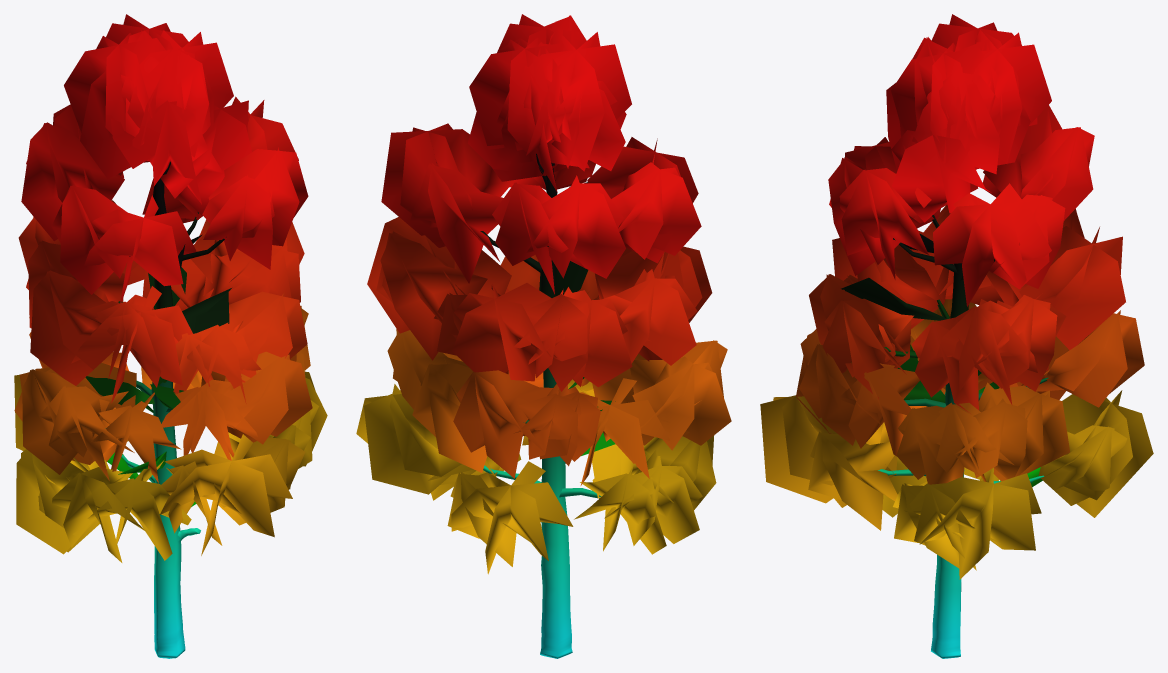
Rendered from RedPine1.fbx.
3 views of the same model, side by side, from view 1: azimuth 30°, elevation 25°; view 2: azimuth 150°, elevation 25°; view 3: azimuth 270°, elevation 25° (orthographic). The views are drawn at different scales.
Parts seen in each view (by area): view 1: RedPine1_LOD0; view 2: RedPine1_LOD0; view 3: RedPine1_LOD0.
Boxes of the visible parts, x1,y1,x2,y2 form: RedPine1_LOD0: [14, 14, 327, 658]; RedPine1_LOD0: [356, 14, 731, 658]; RedPine1_LOD0: [760, 14, 1153, 658].
Size of what is drawn, in the model's own units: 361 by 643 by 369.
